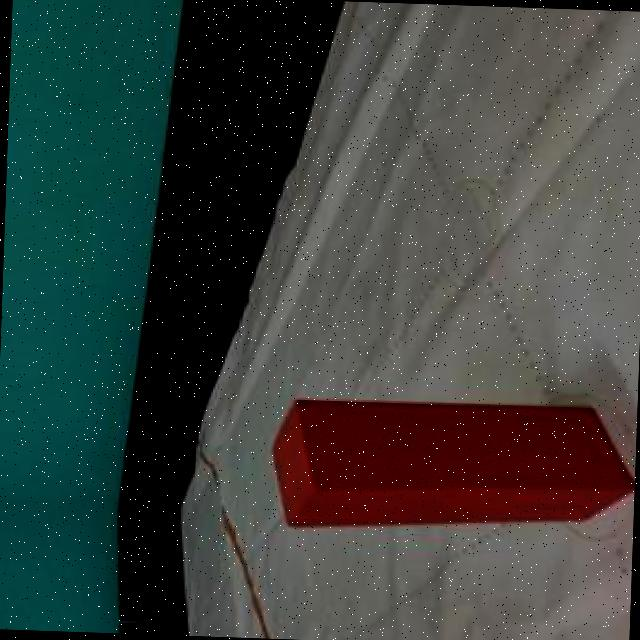redbox: (263, 394, 637, 538)
